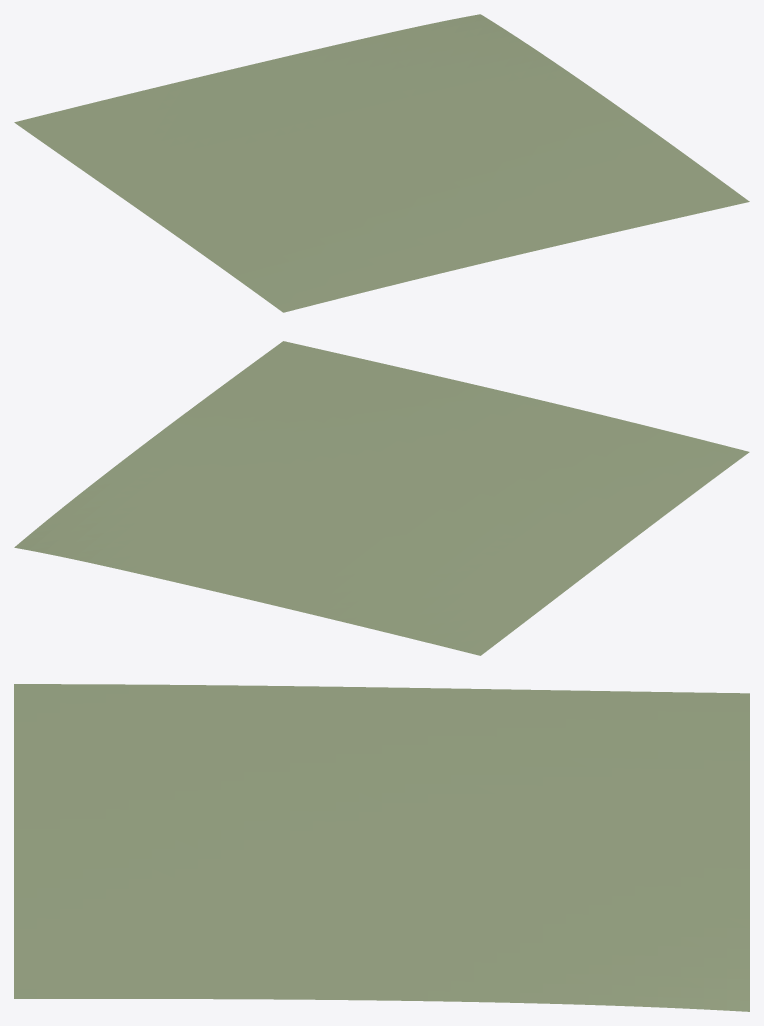
Rendered from expanse-13-31.glb.
3 renders of one model, top to bottom at view 1: azimuth 30°, elevation 25°; view 2: azimuth 150°, elevation 25°; view 3: azimuth 270°, elevation 25°, orthographic. The views are drawn at different scales.
Parts seen in each view (by area): view 1: expanse-13-31; view 2: expanse-13-31; view 3: expanse-13-31.
Part boxes in pixels (bbox=[...]): expanse-13-31: bbox=[14, 14, 749, 312]; expanse-13-31: bbox=[14, 341, 749, 655]; expanse-13-31: bbox=[14, 684, 749, 1011].
Bounding box in the file's own units: 256 × 6.98 × 256.
